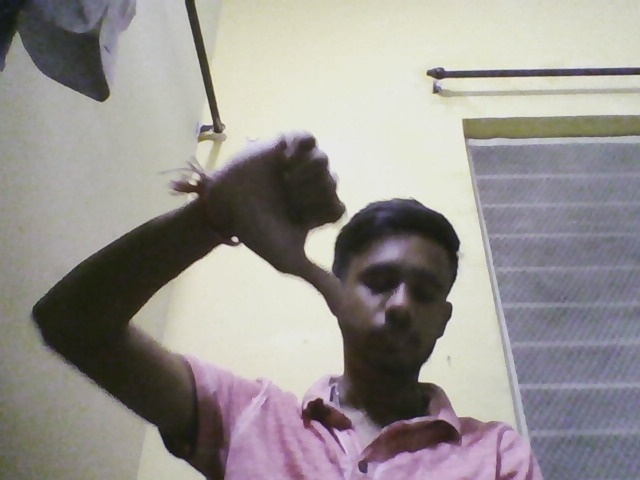no: (181, 113, 367, 321)
